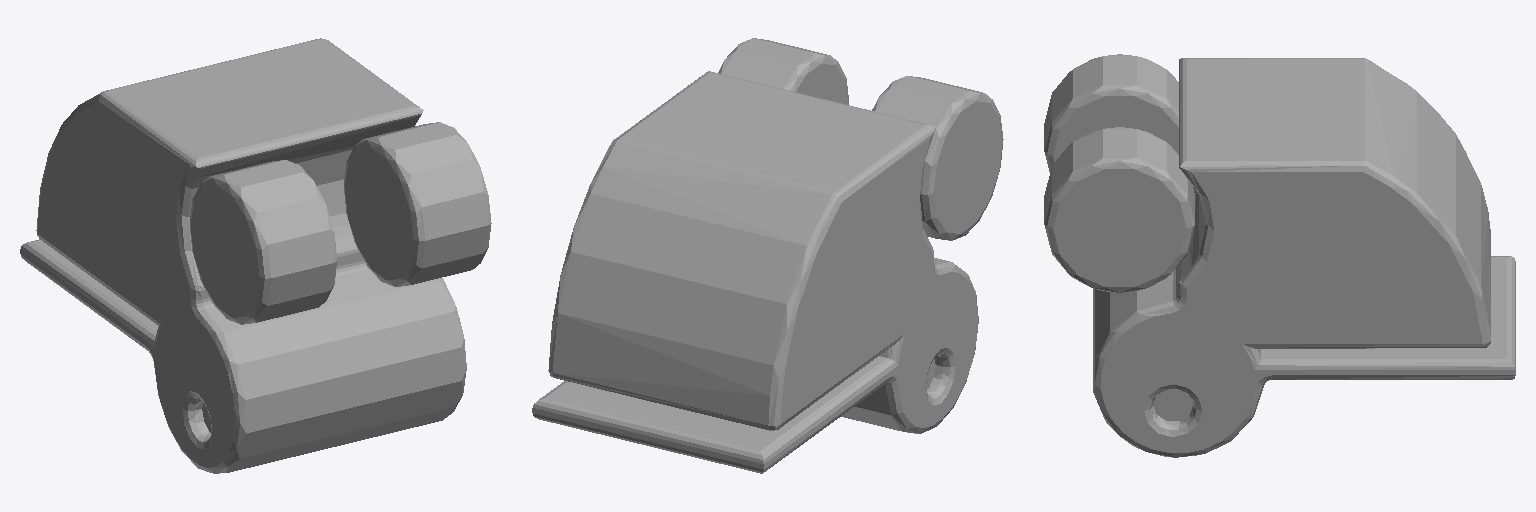
robot.urdf — trash_bin:
<?xml version="1.0" encoding="utf-8"?>
<robot name="trash_bin">

  <!-- Dummy root link (required by KDL) -->
  <link name="world"/>

  <joint name="world_to_base" type="fixed">
    <parent link="world"/>
    <child link="base_link"/>
    <origin xyz="0 0 0" rpy="0 0 0"/>
  </joint>

  <!-- Base Link -->
  <link name="base_link">

    <!-- Visual mesh for display -->
    <visual>
      <origin xyz="0 0 0" rpy="0 0 0"/>
      <geometry>
        <mesh filename="package://trash_bin/meshes/joyce.stl" scale="0.001 0.001 0.001"/>
      </geometry>
      <material name="pla_gray">
        <color rgba="0.7 0.7 0.7 1.0"/>
      </material>
    </visual>

    <!-- Simplified collision geometry -->
    <collision>
      <origin xyz="0 0 0.35" rpy="0 0 0"/>
      <geometry>
        <box size="0.70 0.60 0.70"/>
      </geometry>
    </collision>

    <!-- Inertial properties -->
    <!-- Total mass: 3.0 kg -->
    <!-- Inertia approximated as solid box 0.7 x 0.6 x 0.7 m: -->
    <!--   Ixx = m/12 * (y^2 + z^2) = 3/12 * (0.36 + 0.49) = 0.2125 -->
    <!--   Iyy = m/12 * (x^2 + z^2) = 3/12 * (0.49 + 0.49) = 0.2450 -->
    <!--   Izz = m/12 * (x^2 + y^2) = 3/12 * (0.49 + 0.36) = 0.2125 -->
    <inertial>
      <origin xyz="0 0 0.35" rpy="0 0 0"/>
      <mass value="3.0"/>
      <inertia ixx="0.2125" ixy="0" ixz="0"
               iyy="0.2450" iyz="0"
               izz="0.2125"/>
    </inertial>

  </link>

  <gazebo reference="base_link">
    <material>Gazebo/Grey</material>
  </gazebo>

</robot>

--- What the picture shows (computed from the rendered views, not written in the file) ---
The picture shows the robot from 3 angles, left to right: view 1: azimuth 30°, elevation 25°; view 2: azimuth 150°, elevation 25°; view 3: azimuth 270°, elevation 25°; orthographic projection.
Model trash_bin with 2 links and 1 joints (1 fixed), rooted at world, posed all joints at 0.
Visible links, largest first — view 1: base_link; view 2: base_link; view 3: base_link.
Link boxes in pixels (left/top/right/bottom): base_link: left=20, top=38, right=491, bottom=473; base_link: left=532, top=38, right=1003, bottom=473; base_link: left=1044, top=54, right=1515, bottom=457.
Size in the robot's own frame: 0.3 by 0.547 by 0.3825 metres.
1 mesh visuals loaded from 1 distinct referenced files (1 binary STL).
